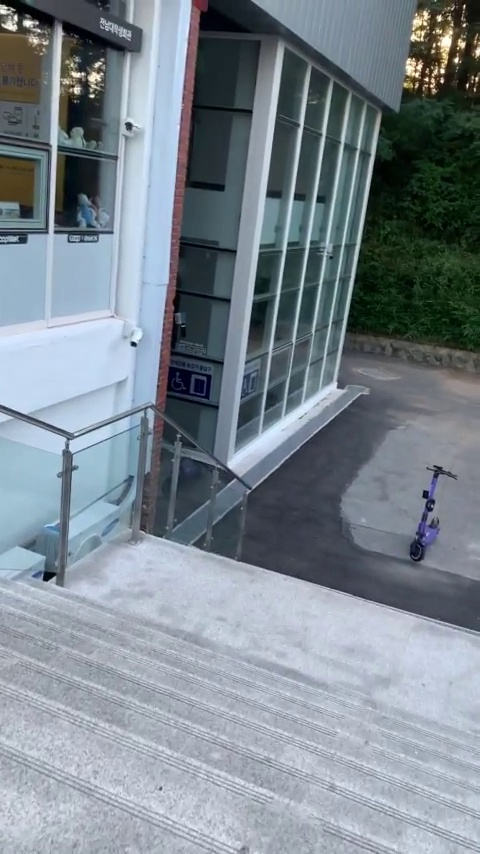beam: (405, 462, 460, 568)
